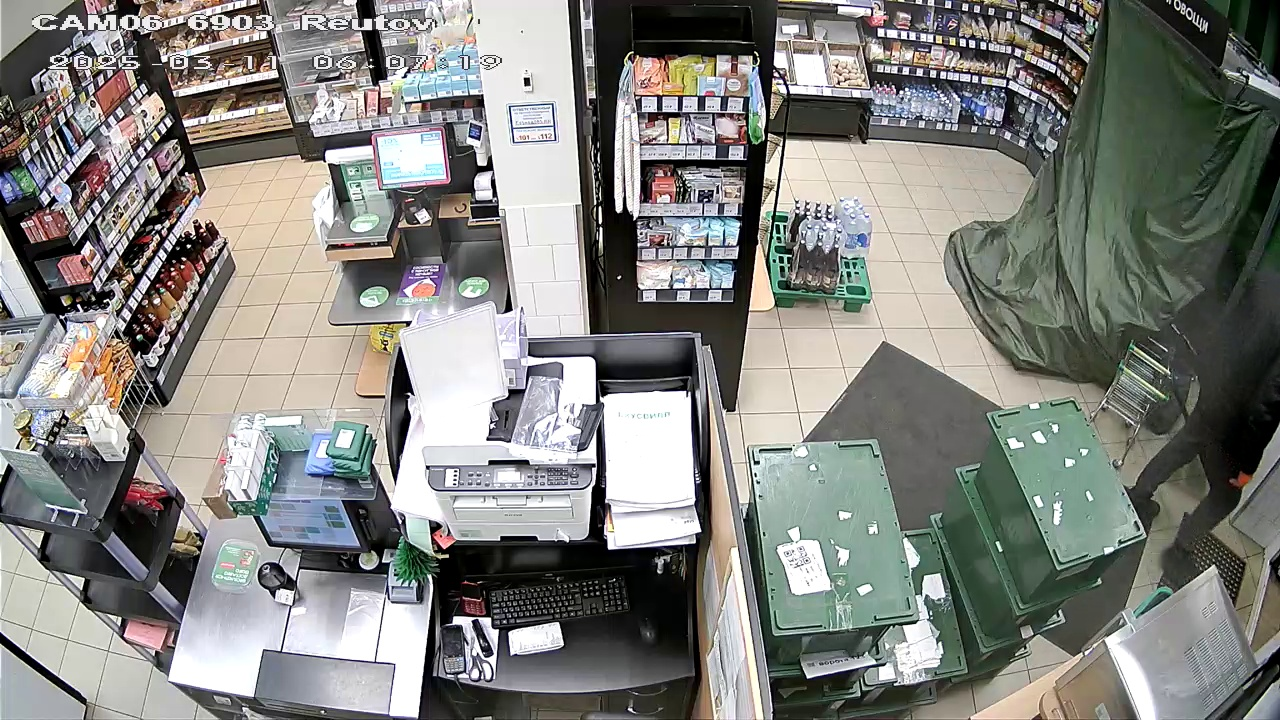Human: (1141, 268, 1276, 592)
dome: (949, 4, 1279, 389)
